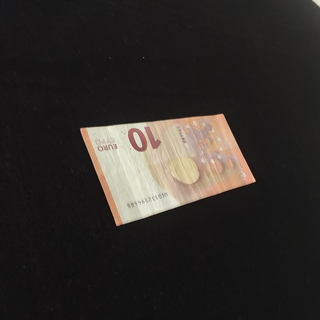10EUROBack: (79, 113, 255, 226)
